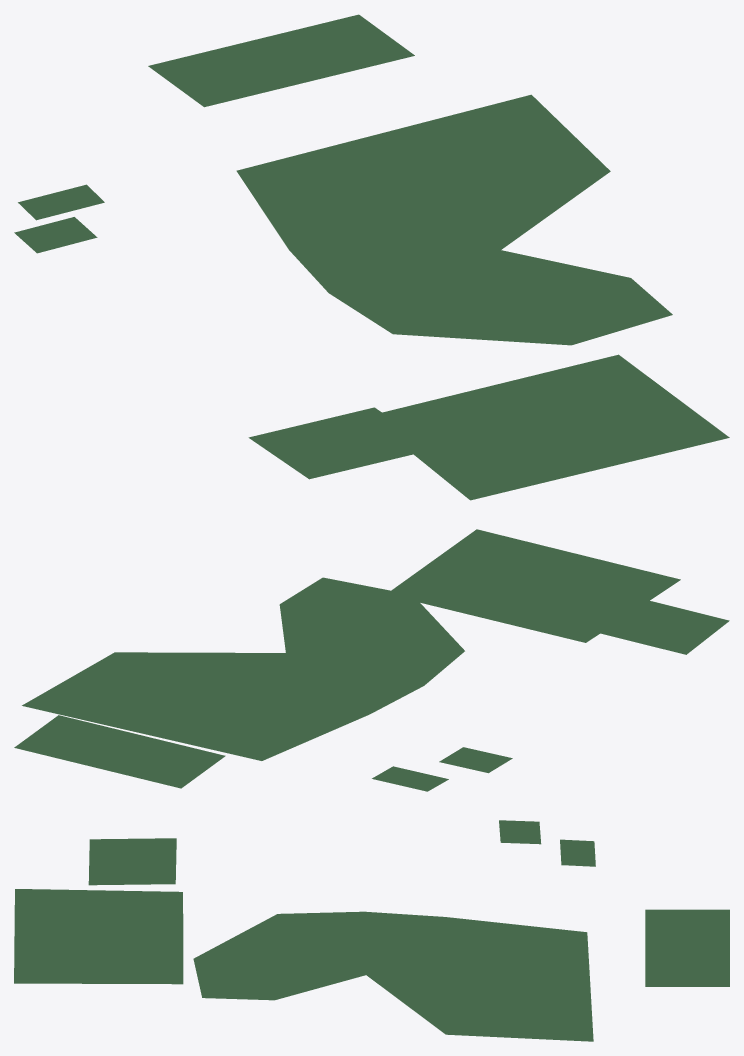
File: reset_plane.glb
The picture shows the model from 3 angles, top to bottom: view 1: azimuth 30°, elevation 25°; view 2: azimuth 150°, elevation 25°; view 3: azimuth 270°, elevation 25°; orthographic projection. The views are drawn at different scales.
Visible parts, largest first — view 1: transparence.png__; view 2: transparence.png__; view 3: transparence.png__.
Boxes of the visible parts, x1,y1,x2,y2 form: transparence.png__: [14, 14, 729, 500]; transparence.png__: [14, 529, 729, 791]; transparence.png__: [14, 820, 729, 1041].
Bounding box in the file's own units: 225 × 18.22 × 331.
Materials: 1 (1 with a texture image).
